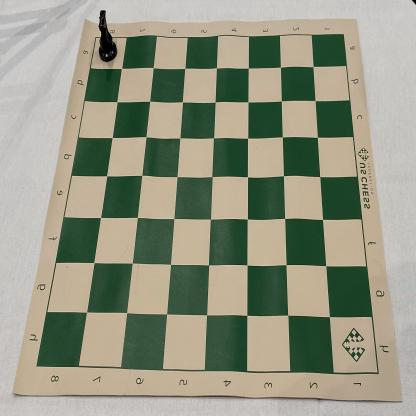black-knight: (98, 10, 118, 63)
